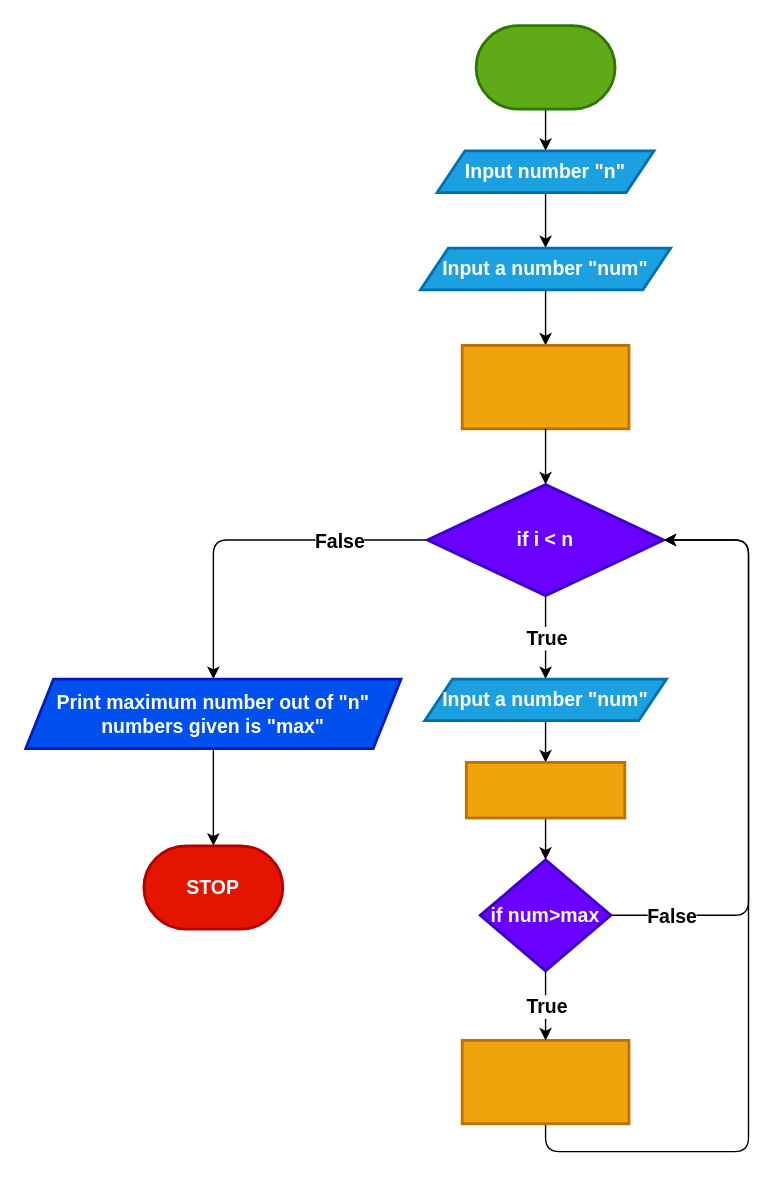
The diagram is 784 pixels wide and 1187 high, and some of its shapes have lost their labels. Each missing label, with the centre of its shape:
i = i+1: [545,789]
max = num: [545,1081]
max = num i = 1: [545,386]
START: [545,67]
